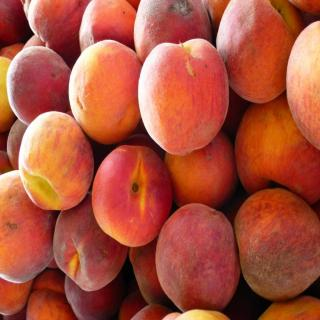Peach: (0, 0, 320, 320), (136, 37, 231, 156)
